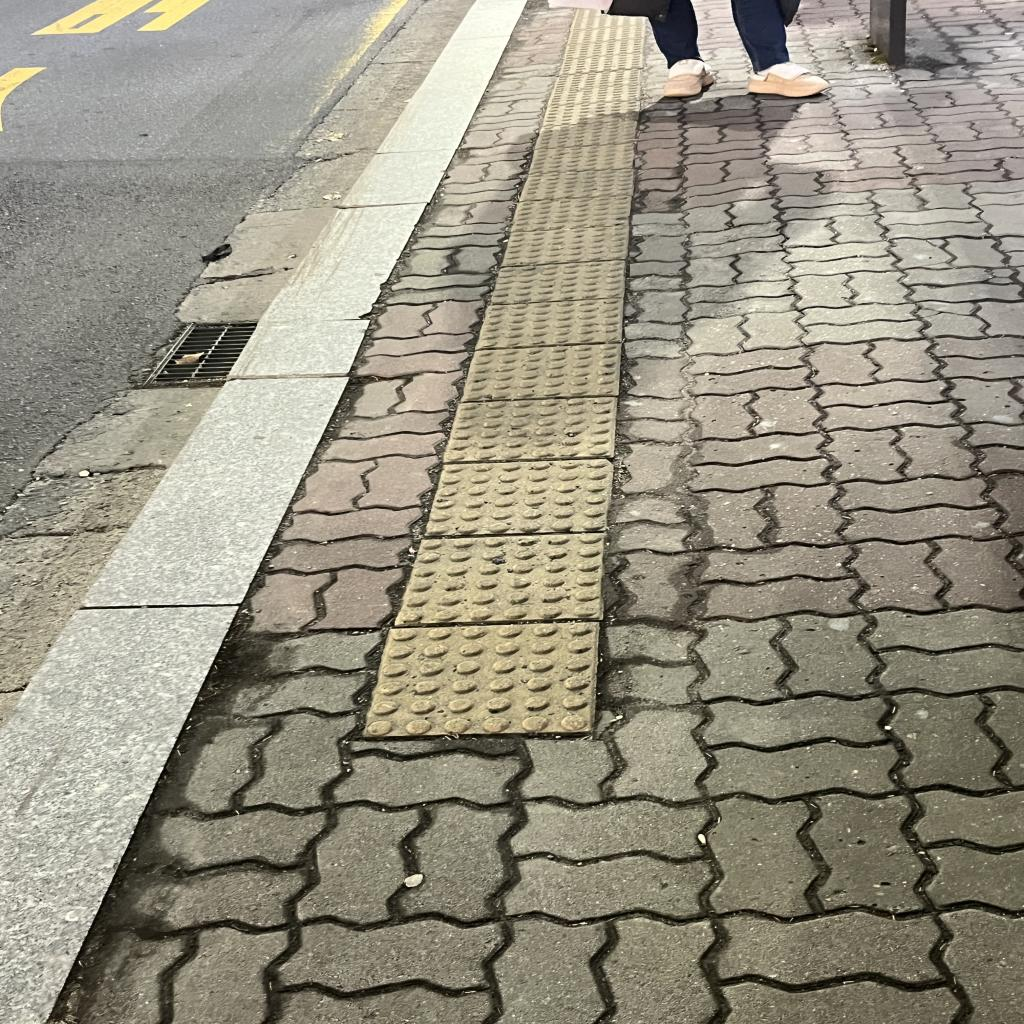Stop block normal: (363, 623, 599, 735), (394, 534, 607, 623), (424, 460, 615, 536), (442, 398, 617, 461), (461, 345, 621, 400), (476, 299, 624, 348)
